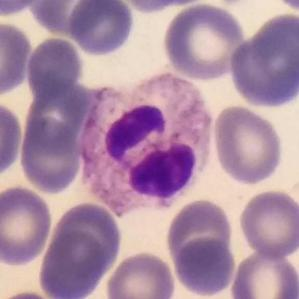Neutrophil: (71, 66, 222, 224)
RBC: (44, 198, 126, 286), (159, 1, 247, 82), (210, 104, 286, 187), (163, 196, 237, 276), (16, 115, 84, 196), (22, 79, 94, 152), (36, 228, 110, 299), (227, 34, 297, 105), (0, 183, 55, 268), (236, 187, 299, 261), (170, 235, 238, 298), (66, 0, 138, 58), (23, 35, 85, 98), (103, 249, 178, 299), (227, 248, 299, 299), (28, 0, 112, 38), (0, 19, 34, 97), (0, 99, 25, 180), (112, 0, 214, 15), (0, 0, 49, 18), (0, 288, 63, 299)
